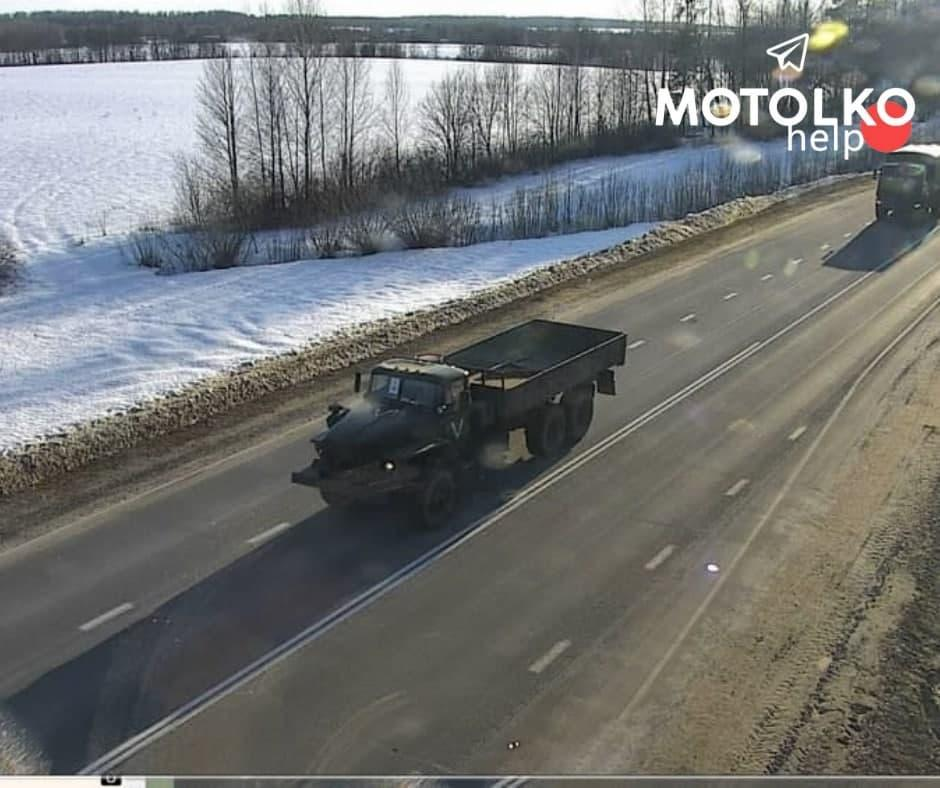truck: (290, 294, 636, 528), (867, 145, 937, 228)
